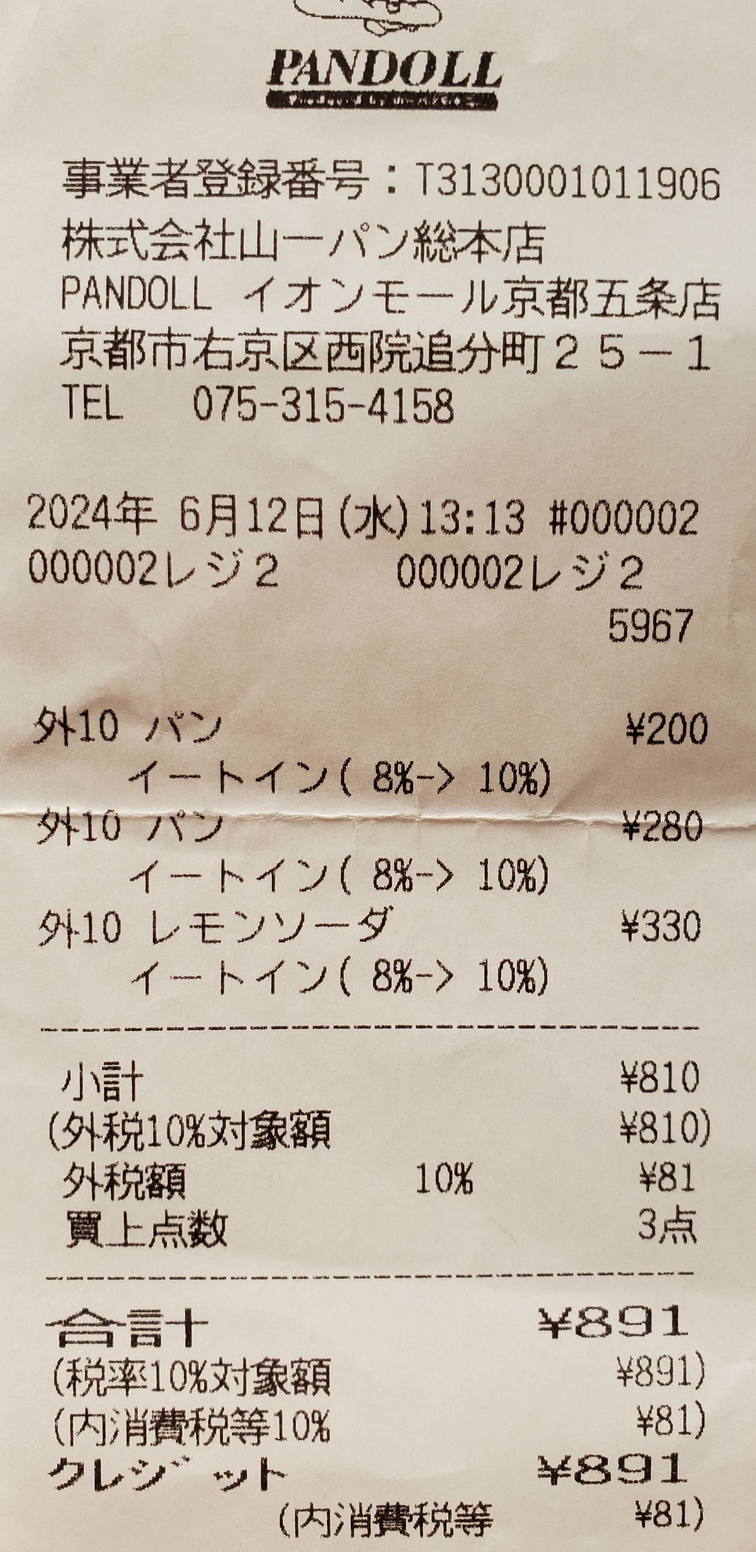Date: (19, 479, 334, 542)
Shopname: (243, 29, 520, 94)
Telnum: (187, 376, 478, 437)
Totalpay: (41, 1294, 704, 1348)
